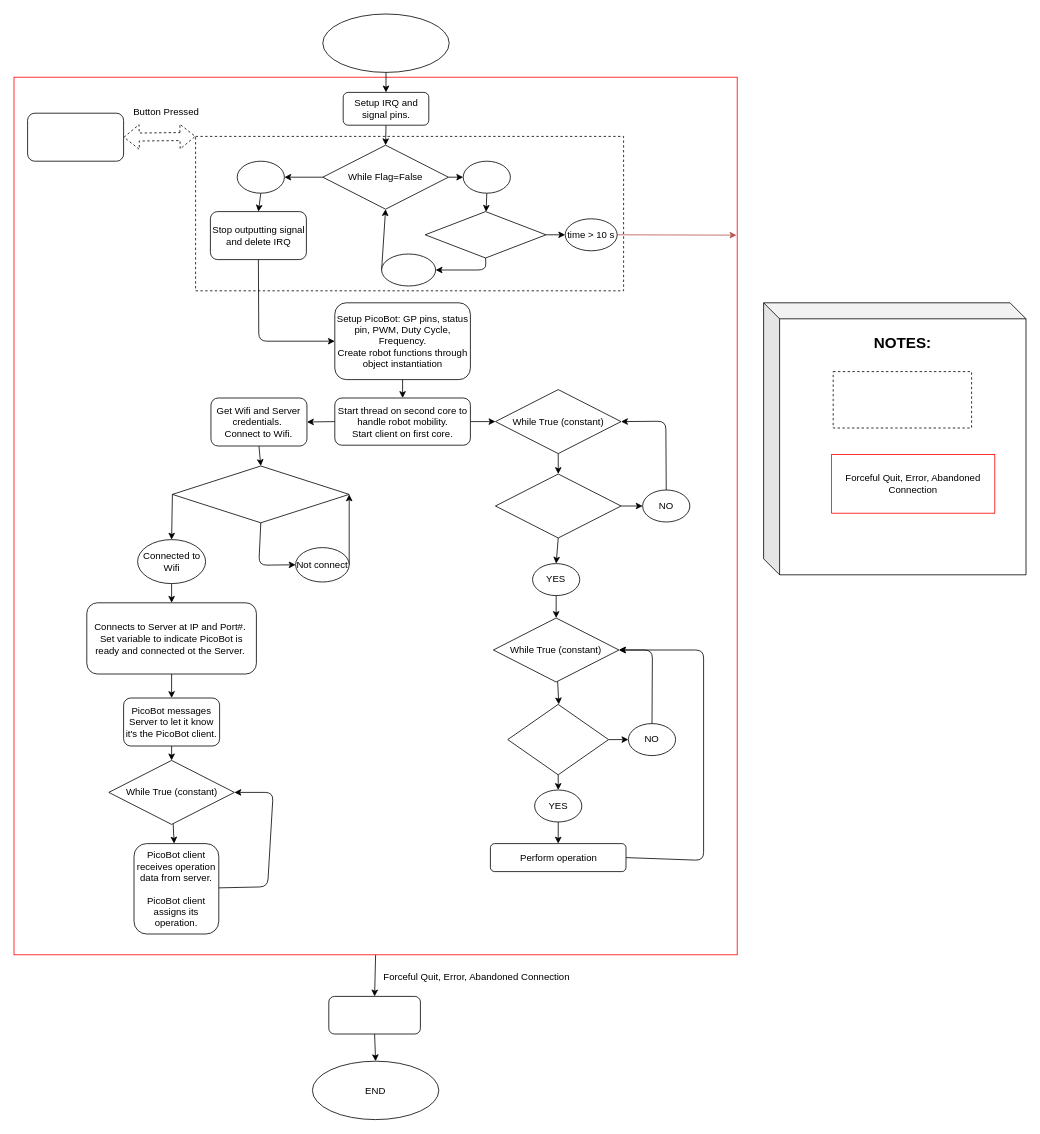
Image size: 1040x1134. Some labels were removed from this diagram. Each missing label, with the box of its shape:
< Interrupt program >: (832, 371, 972, 428)
Cleanup and reset machine: (328, 996, 420, 1034)
Flag=False: (462, 160, 510, 193)
Flag=True: (236, 160, 284, 193)
If 10 seconds elapse: (424, 211, 546, 258)
if new operation (forward, right, back, left, quit): (507, 704, 609, 775)
if robot is ready and connected to server: (495, 473, 621, 538)
IRQ occurs: Flag=True: (27, 112, 124, 161)
START: (322, 13, 449, 72)
time < 10 s: (381, 253, 436, 286)
While PicoBot is connecting to wifi: (172, 465, 349, 523)
